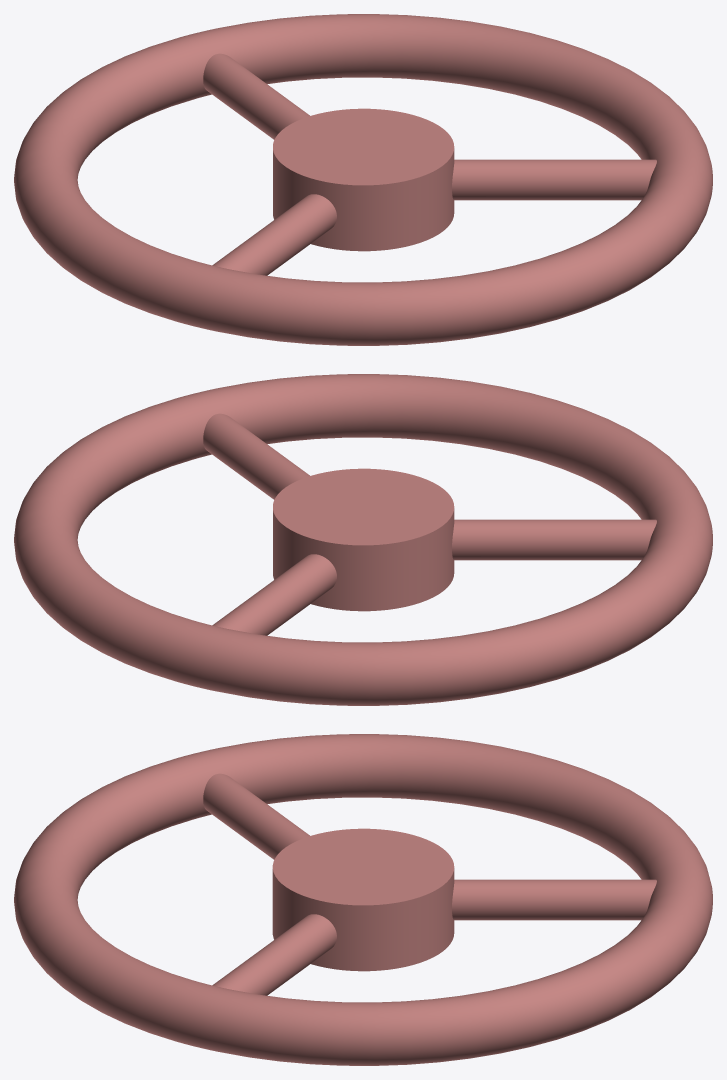
Rendered from step_56.glb.
3 renders of one model, top to bottom at view 1: azimuth 30°, elevation 25°; view 2: azimuth 150°, elevation 25°; view 3: azimuth 270°, elevation 25°, orthographic.
Parts seen in each view (by area): view 1: part__4" needle valve handwheel; view 2: part__4" needle valve handwheel; view 3: part__4" needle valve handwheel.
Part boxes in pixels (left/top/right/bottom): part__4" needle valve handwheel: left=14, top=14, right=712, bottom=345; part__4" needle valve handwheel: left=14, top=374, right=712, bottom=705; part__4" needle valve handwheel: left=14, top=734, right=712, bottom=1065.
Bounding box in the file's own units: 87.94 × 9.14 × 88.
